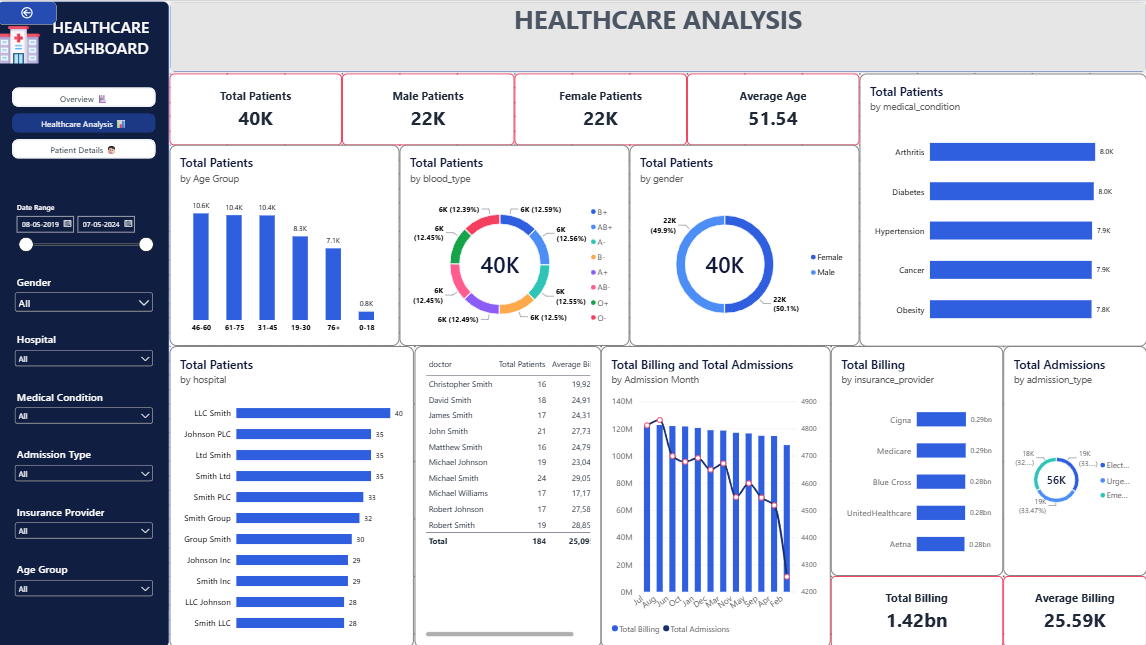

The dashboard page shown, as its layout file describes it:
{"tool":"powerbi","page":{"name":"Healthcare Analysis 📊","canvas":[1920,1080],"ordinal":1},"visuals":[{"type":"group","id":"g1","title":"Group 1","box":[0,0,1920,1080],"z":0},{"type":"shape","box":[0,0,288,1080],"z":0,"group":"g1"},{"type":"textbox","box":[288,0,1632,384],"z":6,"group":"g1"},{"type":"shape","box":[288,0,1632,120],"z":1000,"group":"g1"},{"type":"slicer","fields":{"Values":["patient_admission_detail.admission_date"]},"box":[24,336,240,96],"z":1000},{"type":"textbox","box":[0,24,288,96],"z":2000,"group":"g1"},{"type":"cardVisual","fields":{"Data":["Measure.Total Patients"]},"box":[288,120,288,120],"z":2000},{"type":"image","box":[0,24,72,96],"z":3000,"group":"g1"},{"type":"slicer","fields":{"Values":["patient_admission_detail.hospital"]},"box":[24,552,240,72],"z":3000},{"type":"cardVisual","fields":{"Data":["Measure.Male Patients"]},"box":[576,120,288,120],"z":4000},{"type":"pageNavigator","box":[24,144,240,120],"z":4000,"group":"g1"},{"type":"slicer","fields":{"Values":["patient_admission_detail.medical_condition"]},"box":[24,648,240,72],"z":5000},{"type":"cardVisual","fields":{"Data":["Measure.Female Patients"]},"box":[864,120,288,120],"z":6000},{"type":"slicer","fields":{"Values":["patient_admission_detail.gender"]},"box":[24,456,240,72],"z":7000},{"type":"cardVisual","fields":{"Data":["Measure.Average Age"]},"box":[1152,120,288,120],"z":8000},{"type":"slicer","fields":{"Values":["patient_admission_detail.admission_type"]},"box":[24,744,240,72],"z":9000},{"type":"textbox","box":[288,0,1632,120],"z":10000},{"type":"slicer","fields":{"Values":["patient_admission_detail.insurance_provider"]},"box":[24,840,240,72],"z":11000},{"type":"clusteredColumnChart","fields":{"Category":["patient_admission_detail.Age Group"],"Y":["Measure.Total Patients"]},"box":[288,240,384,336],"z":12000},{"type":"actionButton","box":[0,0,100,40],"z":13000},{"type":"donutChart","fields":{"Category":["patient_admission_detail.blood_type"],"Y":["Measure.Total Patients"]},"box":[672,240,384,336],"z":14000},{"type":"donutChart","fields":{"Category":["patient_admission_detail.gender"],"Y":["Measure.Total Patients"]},"box":[1056,240,384,336],"z":15000},{"type":"clusteredBarChart","fields":{"Category":["patient_admission_detail.medical_condition"],"Y":["Measure.Total Patients"]},"box":[1440,120,480,456],"z":16000},{"type":"clusteredBarChart","fields":{"Category":["patient_admission_detail.hospital"],"Y":["Measure.Total Patients"]},"box":[288,576,408,504],"z":17000},{"type":"tableEx","fields":{"Values":["patient_admission_detail.doctor","Measure.Total Patients","Measure.Average Billing"]},"box":[696,576,312,504],"z":18000},{"type":"lineClusteredColumnComboChart","fields":{"Category":["patient_admission_detail.Admission Month"],"Y":["Measure.Total Billing"],"Y2":["Measure.Total Admissions"]},"box":[1008,576,384,504],"z":19000},{"type":"clusteredBarChart","fields":{"Category":["patient_admission_detail.insurance_provider"],"Y":["Measure.Total Billing"]},"box":[1392,576,288,384],"z":20000},{"type":"donutChart","fields":{"Category":["patient_admission_detail.admission_type"],"Y":["Measure.Total Admissions"]},"box":[1680,576,240,384],"z":21000},{"type":"cardVisual","fields":{"Data":["Measure.Total Billing"]},"box":[1392,960,288,120],"z":22000},{"type":"cardVisual","fields":{"Data":["Measure.Average Billing"]},"box":[1680,960,240,120],"z":23000},{"type":"slicer","fields":{"Values":["patient_admission_detail.Age Group"]},"box":[24,936,240,72],"z":24000}]}

Visuals, with their boxes on the page's 1920x1080 design canvas (x1, y1, x2, y2). These are canvas units, not pixel positions in the 1146x645 screenshot, which may show the page scaled, cropped or inside an application window:
"Group 1" group: locate(0, 0, 1920, 1080)
shape: locate(0, 0, 288, 1080)
textbox: locate(288, 0, 1920, 384)
shape: locate(288, 0, 1920, 120)
slicer - patient_admission_detail.admission_date: locate(24, 336, 264, 432)
textbox: locate(0, 24, 288, 120)
cardVisual - Measure.Total Patients: locate(288, 120, 576, 240)
image: locate(0, 24, 72, 120)
slicer - patient_admission_detail.hospital: locate(24, 552, 264, 624)
cardVisual - Measure.Male Patients: locate(576, 120, 864, 240)
pageNavigator: locate(24, 144, 264, 264)
slicer - patient_admission_detail.medical_condition: locate(24, 648, 264, 720)
cardVisual - Measure.Female Patients: locate(864, 120, 1152, 240)
slicer - patient_admission_detail.gender: locate(24, 456, 264, 528)
cardVisual - Measure.Average Age: locate(1152, 120, 1440, 240)
slicer - patient_admission_detail.admission_type: locate(24, 744, 264, 816)
textbox: locate(288, 0, 1920, 120)
slicer - patient_admission_detail.insurance_provider: locate(24, 840, 264, 912)
clusteredColumnChart - patient_admission_detail.Age Group x Measure.Total Patients: locate(288, 240, 672, 576)
actionButton: locate(0, 0, 100, 40)
donutChart - patient_admission_detail.blood_type x Measure.Total Patients: locate(672, 240, 1056, 576)
donutChart - patient_admission_detail.gender x Measure.Total Patients: locate(1056, 240, 1440, 576)
clusteredBarChart - patient_admission_detail.medical_condition x Measure.Total Patients: locate(1440, 120, 1920, 576)
clusteredBarChart - patient_admission_detail.hospital x Measure.Total Patients: locate(288, 576, 696, 1080)
tableEx - patient_admission_detail.doctor x Measure.Total Patients: locate(696, 576, 1008, 1080)
lineClusteredColumnComboChart - patient_admission_detail.Admission Month x Measure.Total Billing: locate(1008, 576, 1392, 1080)
clusteredBarChart - patient_admission_detail.insurance_provider x Measure.Total Billing: locate(1392, 576, 1680, 960)
donutChart - patient_admission_detail.admission_type x Measure.Total Admissions: locate(1680, 576, 1920, 960)
cardVisual - Measure.Total Billing: locate(1392, 960, 1680, 1080)
cardVisual - Measure.Average Billing: locate(1680, 960, 1920, 1080)
slicer - patient_admission_detail.Age Group: locate(24, 936, 264, 1008)
